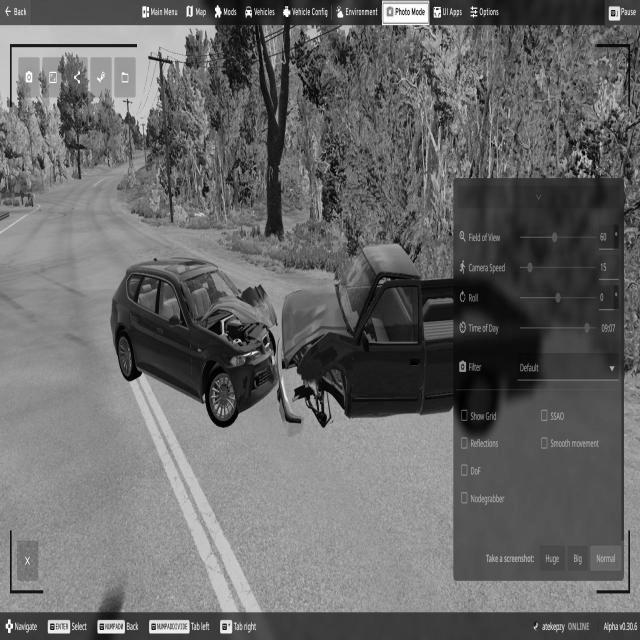accident: (110, 239, 548, 445)
